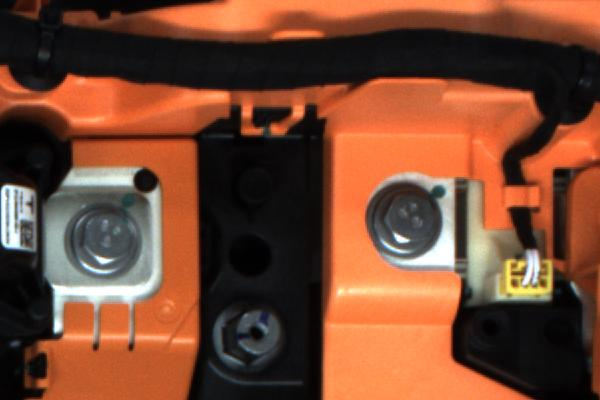nut_b: (56, 198, 155, 283), (358, 173, 448, 266)
